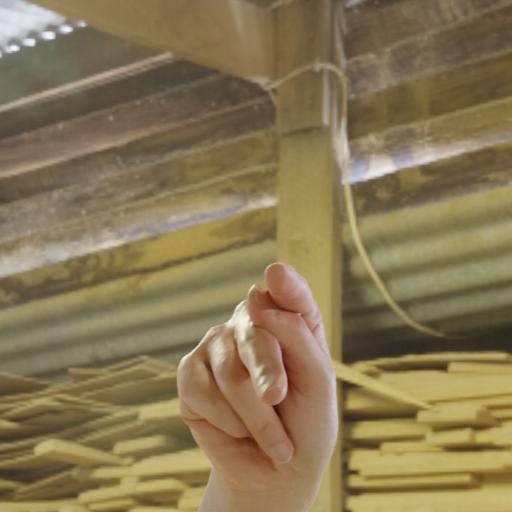P: (167, 258, 335, 497)
